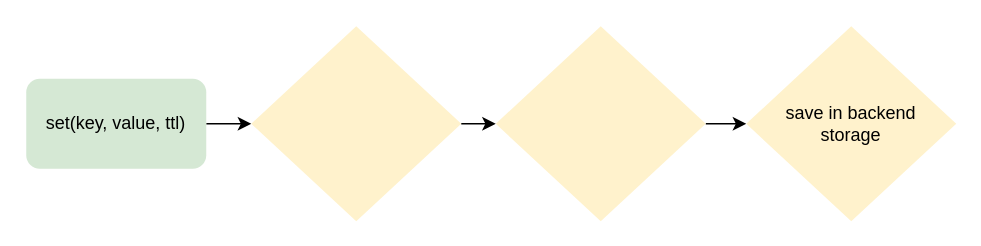
This 981x246 diagram has some shape labels left out. Each missing label, with the centre of its shape:
"build key given the backend namespace" goes at point (355, 123).
"serialize value according to backend serializer" goes at point (600, 123).
